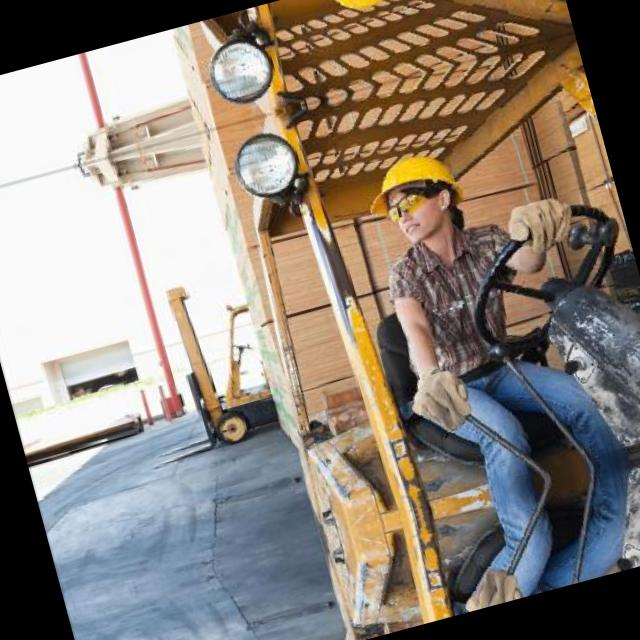helmet: (356, 130, 479, 266), (311, 0, 417, 32)
